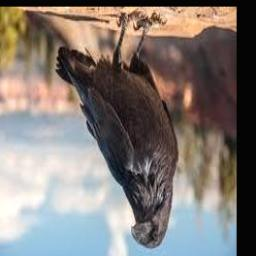Crow: (56, 12, 177, 249)
